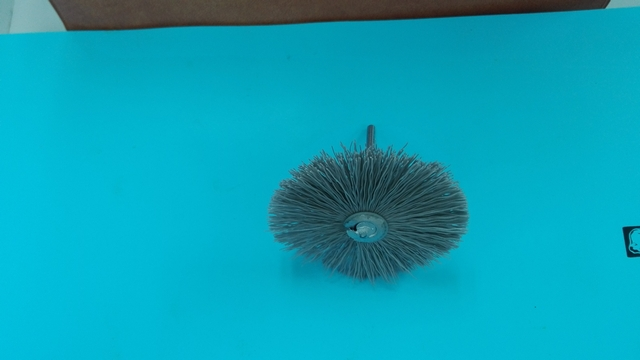TOOL: (203, 88, 528, 310), (242, 93, 475, 291), (242, 124, 481, 277), (209, 124, 408, 296), (300, 126, 482, 287)
